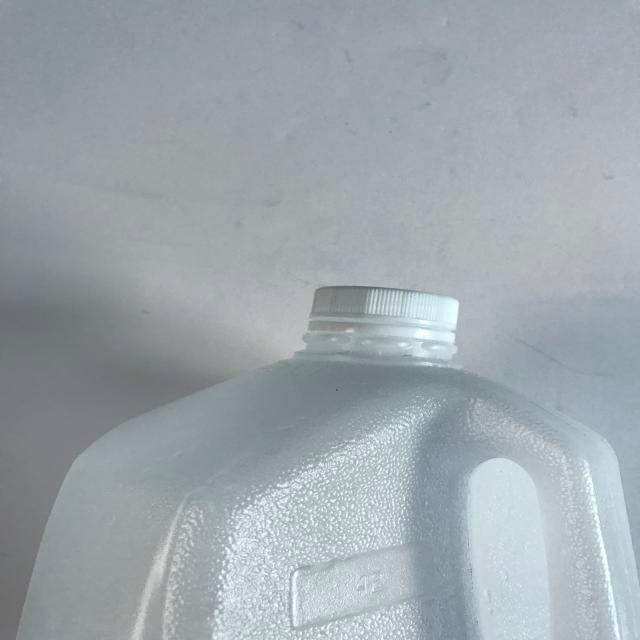plastic: (11, 257, 636, 640)
